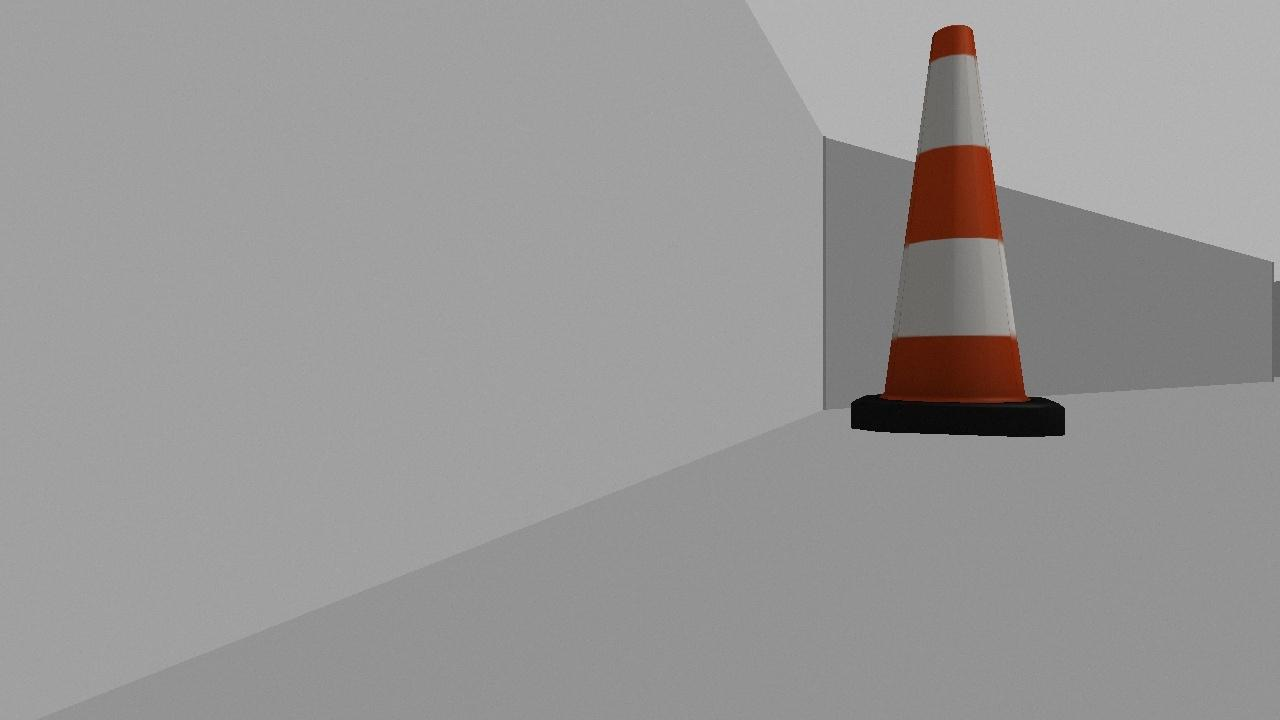cone_barrel: (838, 16, 1082, 464)
